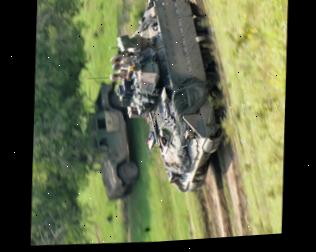armored_car: (103, 0, 241, 202), (81, 82, 141, 205)
